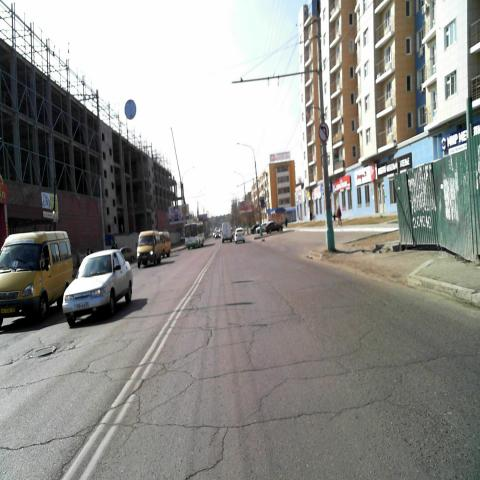3_18_2: (318, 121, 329, 142)
